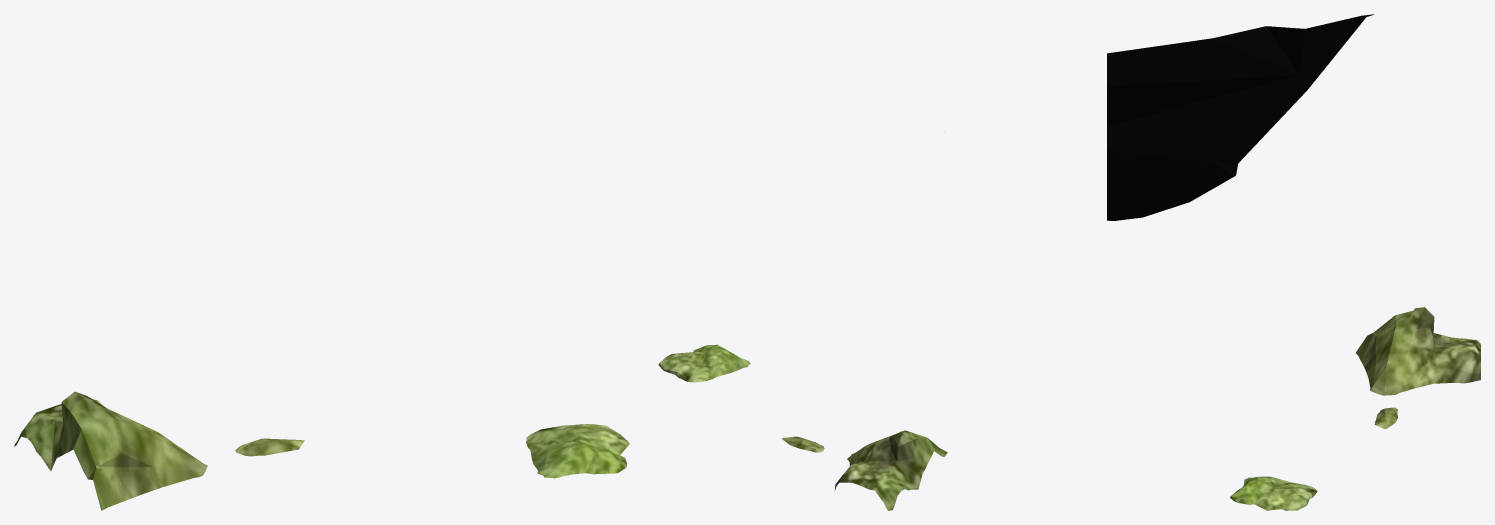
3 views of the same model, side by side, from view 1: azimuth 30°, elevation 25°; view 2: azimuth 150°, elevation 25°; view 3: azimuth 270°, elevation 25° (orthographic). The views are drawn at different scales.
Bounding box in the file's own units: 2.95 × 2.95 × 2.95.
Materials: 1 (1 with a texture image).
